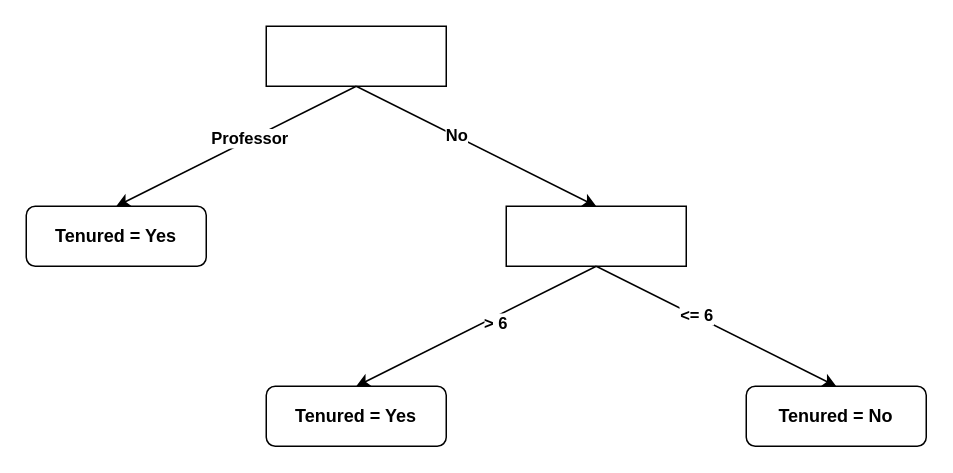
The diagram is 953 pixels wide and 473 high, and some of its shapes have lost their labels. The shapes that lost their labels are listed below. From the top down, each one's box as (x1, y1, x2, y2) in pixels, then its label:
(265, 25, 446, 86): Title
(505, 205, 686, 266): Years
